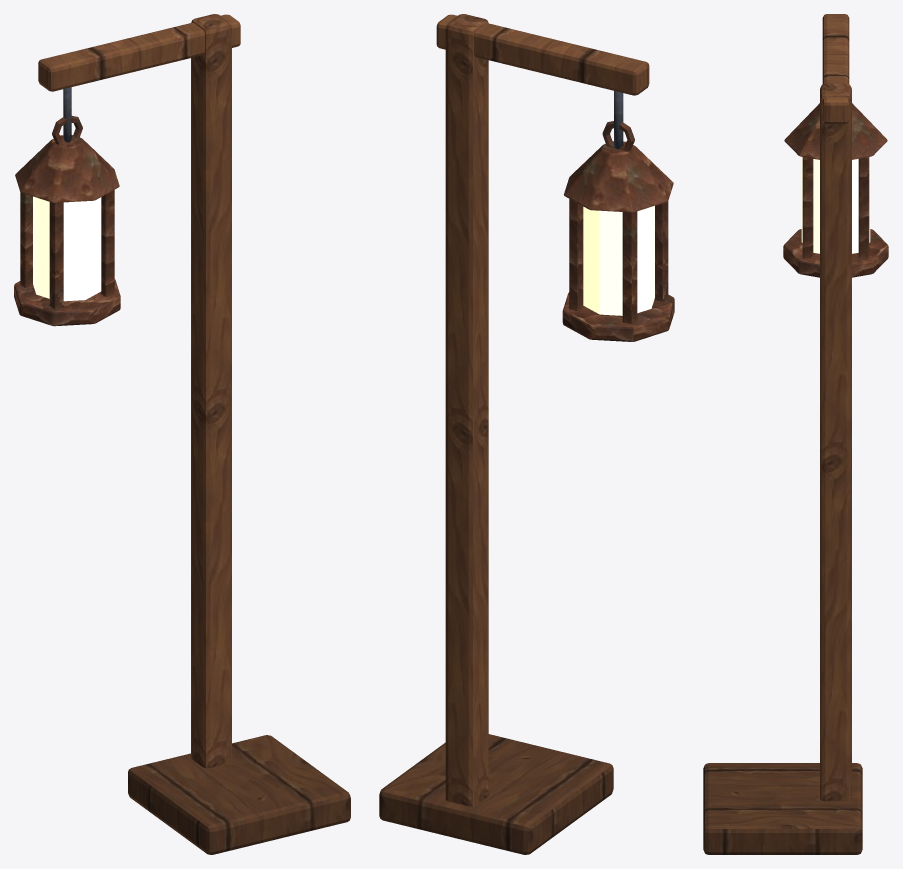
The model's file is hanging_lantern.glb.
3 views of the same model, side by side, from view 1: azimuth 30°, elevation 25°; view 2: azimuth 150°, elevation 25°; view 3: azimuth 270°, elevation 25° (orthographic). The views are drawn at different scales.
Parts seen in each view (by area): view 1: model; view 2: model; view 3: model.
Boxes of the visible parts, bbox=[...] form: model: bbox=[14, 14, 350, 854]; model: bbox=[379, 14, 674, 854]; model: bbox=[703, 14, 888, 854].
Bounding box in the file's own units: 0.5491 × 1.53 × 0.3491.
Materials: 5 (4 with a texture image).
